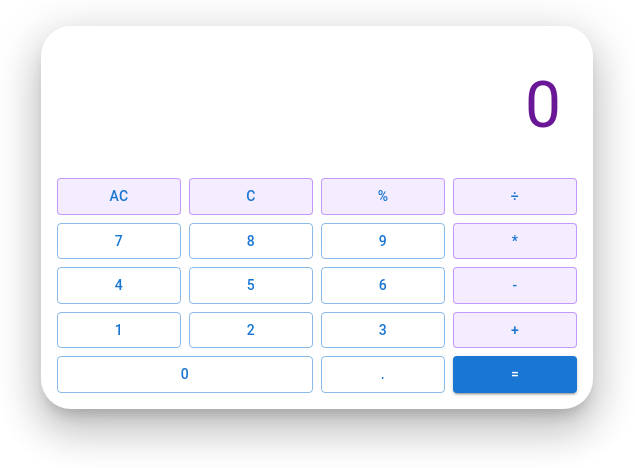
calculator tests › Does division correctly
Click the button "1".
click(119, 330)  # box [57,312,181,348]
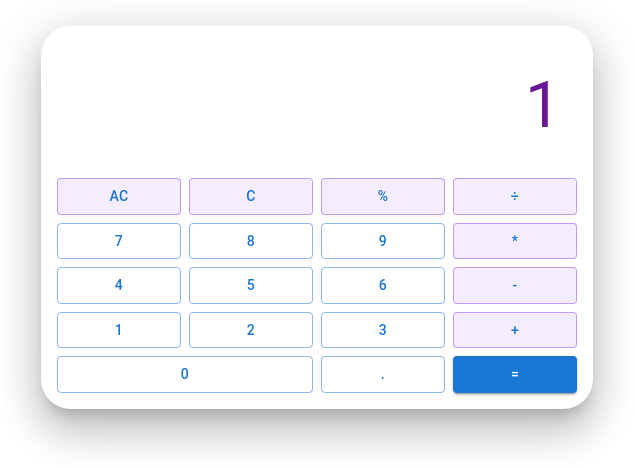
Click the button "0".
click(185, 374)  # box [57,356,313,392]
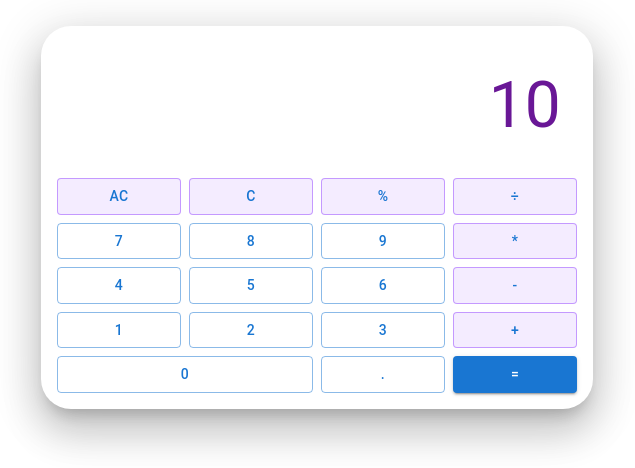
Click the button "÷".
click(515, 196)  # box [453,178,577,214]
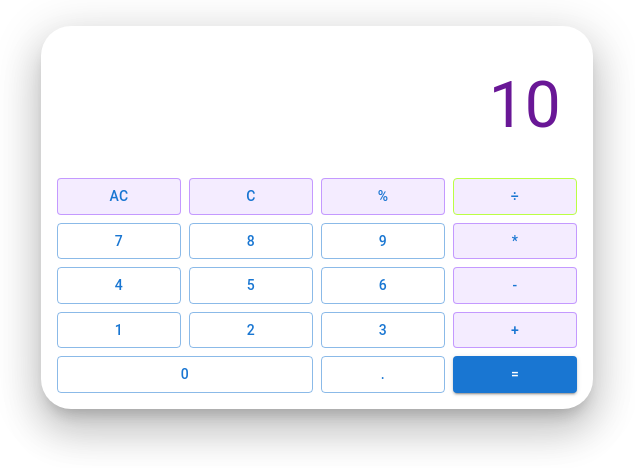
Click the button "5".
click(251, 285)  # box [189,267,313,304]
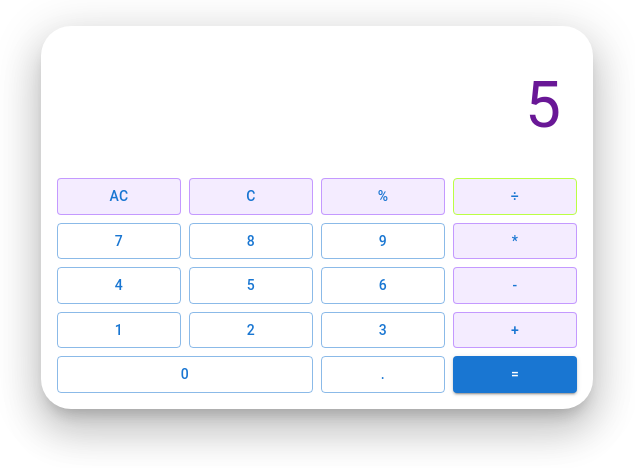
Click the button "=".
click(515, 374)  # box [453,356,577,392]
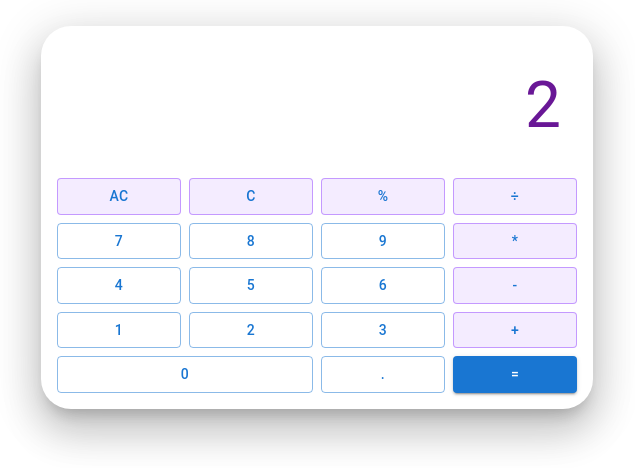
Check: the text with test id "output" reads "2", box [525,68,561,143]
